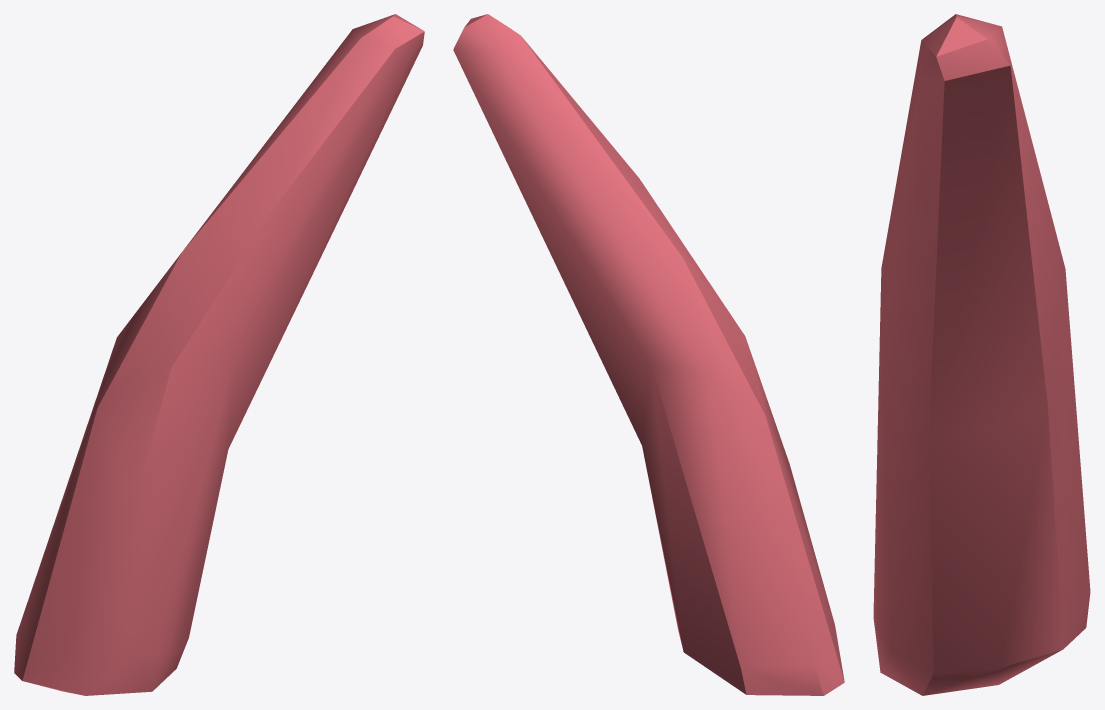
The model's file is fma68135_fj5959.glb.
3 renders of one model, left to right at view 1: azimuth 30°, elevation 25°; view 2: azimuth 150°, elevation 25°; view 3: azimuth 270°, elevation 25°, orthographic. The views are drawn at different scales.
Visible parts, largest first — view 1: FMA68135_FJ5959; view 2: FMA68135_FJ5959; view 3: FMA68135_FJ5959.
Part boxes in pixels (left/top/right/bottom): FMA68135_FJ5959: left=14, top=14, right=424, bottom=695; FMA68135_FJ5959: left=453, top=14, right=844, bottom=695; FMA68135_FJ5959: left=873, top=14, right=1090, bottom=695.
Size of the model in its own units: 0.00767 by 0.0111 by 0.00259.
